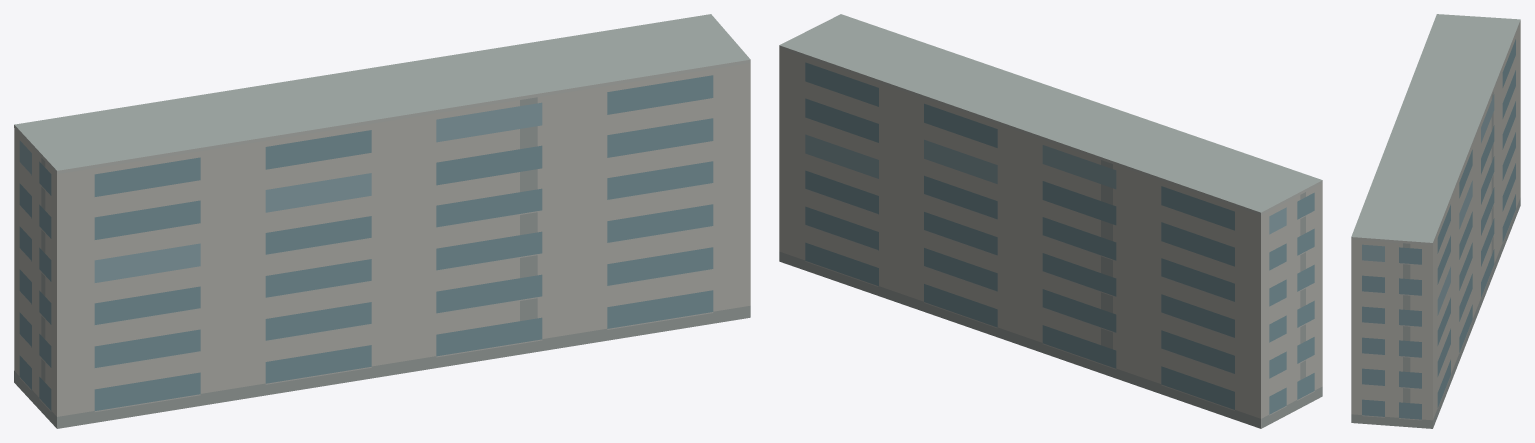
The model's file is survey-upis-32916957.glb.
3 renders of one model, left to right at view 1: azimuth 30°, elevation 25°; view 2: azimuth 150°, elevation 25°; view 3: azimuth 270°, elevation 25°, orthographic. The views are drawn at different scales.
Visible parts, largest first — view 1: survey-upis-32916957.tmp; view 2: survey-upis-32916957.tmp; view 3: survey-upis-32916957.tmp.
Boxes of the visible parts, <box> form: survey-upis-32916957.tmp: <box>14,14,750,428</box>; survey-upis-32916957.tmp: <box>779,14,1322,428</box>; survey-upis-32916957.tmp: <box>1351,14,1520,428</box>.
Size of the model in its own units: 48.35 by 18.3 by 15.13.
